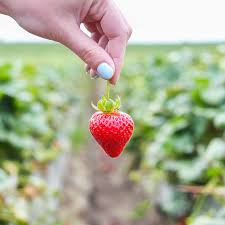ripe: (86, 109, 137, 158)
